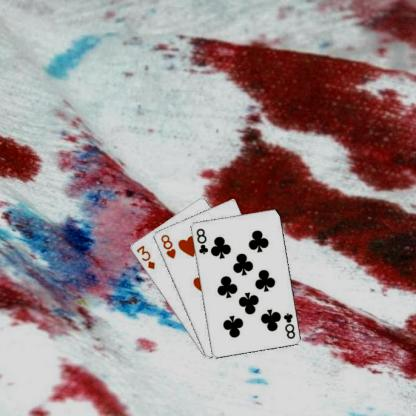3D: (133, 242, 156, 270)
8C: (194, 226, 210, 255), (281, 310, 296, 339)
8H: (158, 232, 177, 260)
